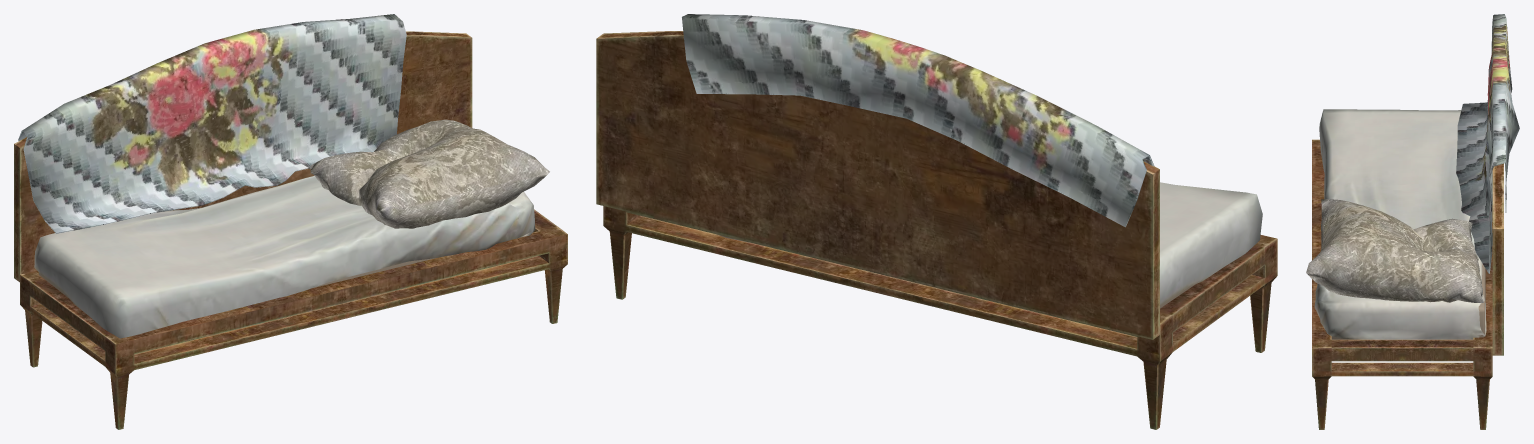
File: vintage_day_bed.glb
3 views of the same model, side by side, from view 1: azimuth 30°, elevation 25°; view 2: azimuth 150°, elevation 25°; view 3: azimuth 270°, elevation 25° (orthographic). The views are drawn at different scales.
Visible parts, largest first — view 1: vintage_day_bed; view 2: vintage_day_bed; view 3: vintage_day_bed.
Part boxes in pixels (x1,y1,x2,y2): vintage_day_bed: (14, 14, 567, 429); vintage_day_bed: (596, 14, 1277, 429); vintage_day_bed: (1306, 14, 1519, 429).
Size of the model in its own units: 1.97 by 1.13 by 0.8548.
1 material, 1 textured.
